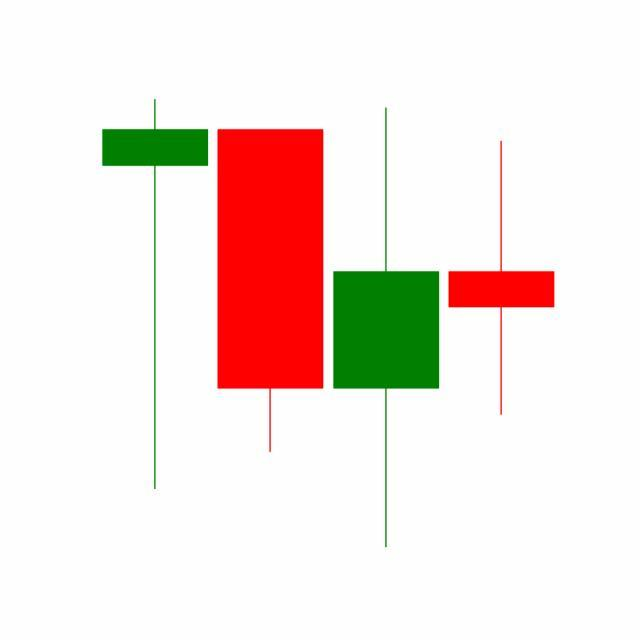Spinning Top: (329, 103, 445, 553)
